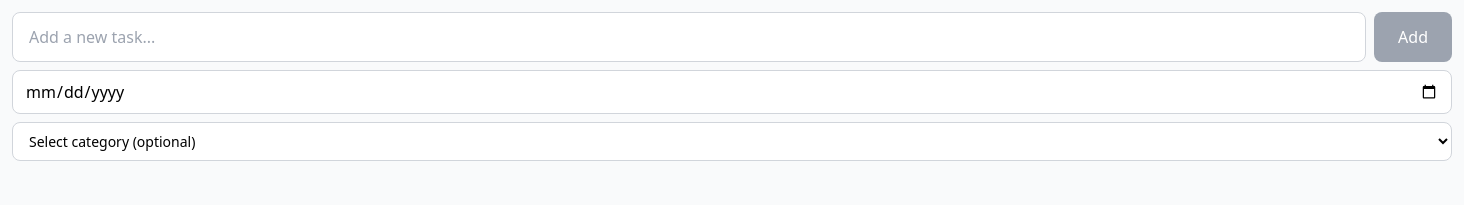
Test: AddTaskInput › should_display_error_when_onCreateTask_fails
Type "New task" into the field with placeholder "Add a new task...". click: [689, 37]
box: [12, 12, 1366, 62]
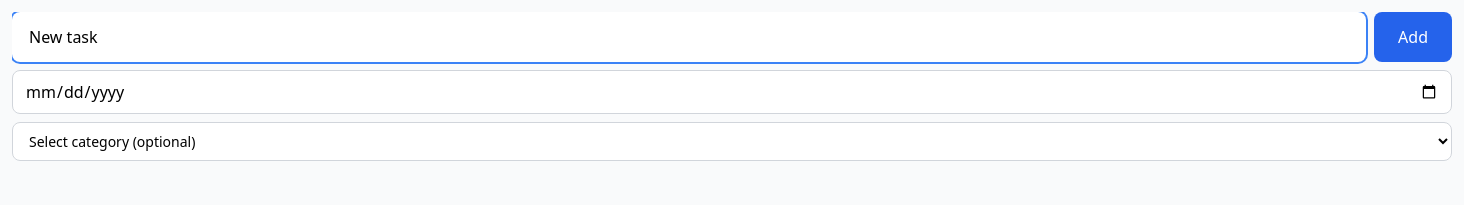
Click the button "Add". click: [1413, 37]
box: [1374, 12, 1452, 62]
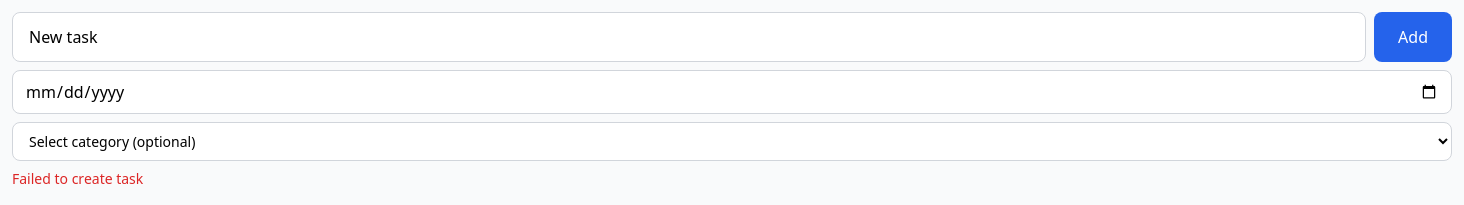
Now the text "Failed to create task" is shown, box [12, 169, 143, 188]
